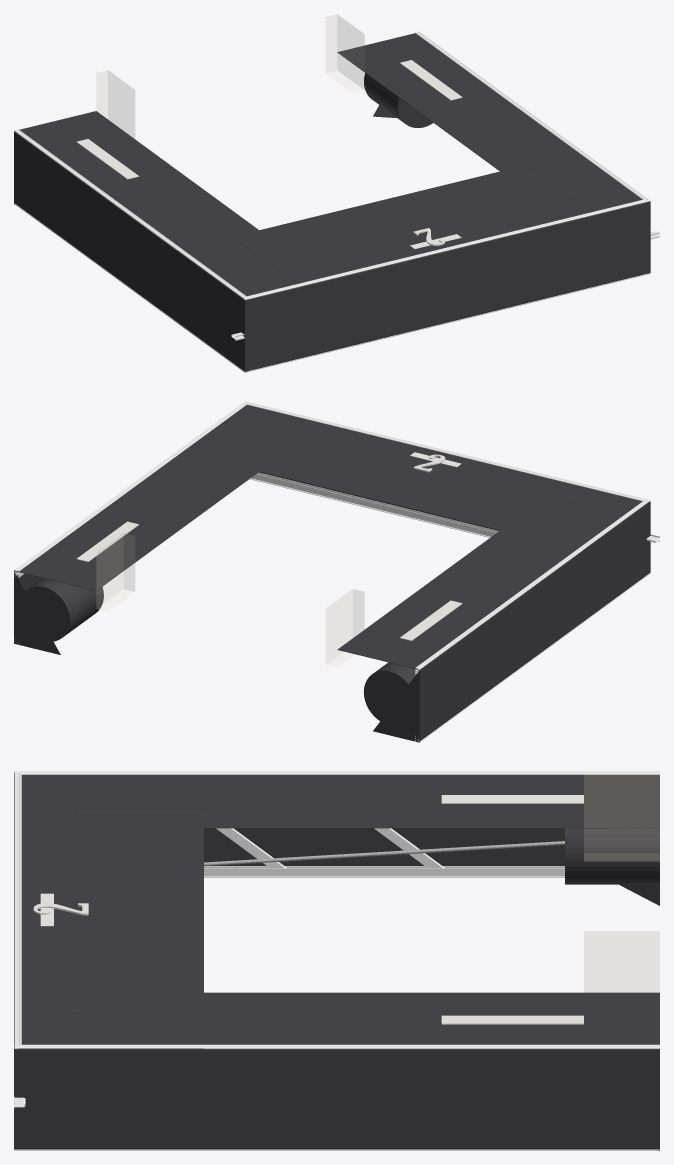
Rendered from dock_shelter_assa_abloy_ds6060a.glb.
3 views of the same model, one above another, from view 1: azimuth 30°, elevation 25°; view 2: azimuth 150°, elevation 25°; view 3: azimuth 270°, elevation 25° (orthographic). The views are drawn at different scales.
Visible parts, largest first — view 1: ASSA_ABLOY_DockShelter_DS6060A; view 2: ASSA_ABLOY_DockShelter_DS6060A; view 3: ASSA_ABLOY_DockShelter_DS6060A.
Part boxes in pixels (bbox=[...]): ASSA_ABLOY_DockShelter_DS6060A: bbox=[14, 14, 659, 372]; ASSA_ABLOY_DockShelter_DS6060A: bbox=[14, 401, 659, 742]; ASSA_ABLOY_DockShelter_DS6060A: bbox=[14, 771, 659, 1150].
Size of the model in its own units: 3.61 by 0.9028 by 3.4.
